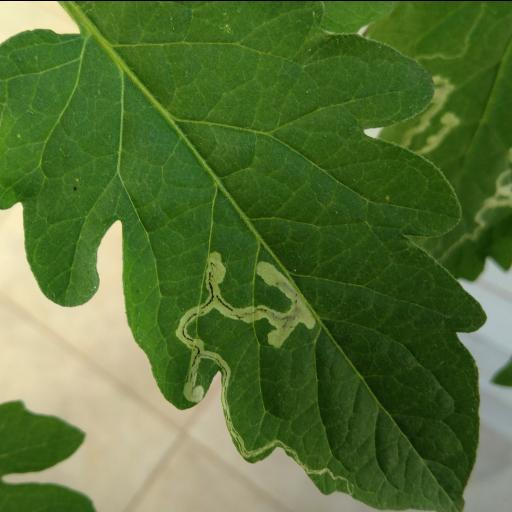disease_tomato: (0, 0, 488, 512)
